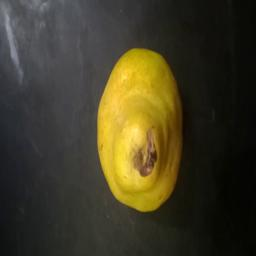Pear Semifresh: (94, 45, 186, 218)
